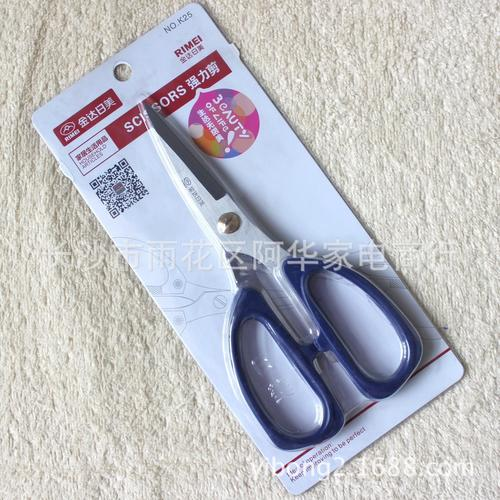scissor: (139, 96, 426, 451)
